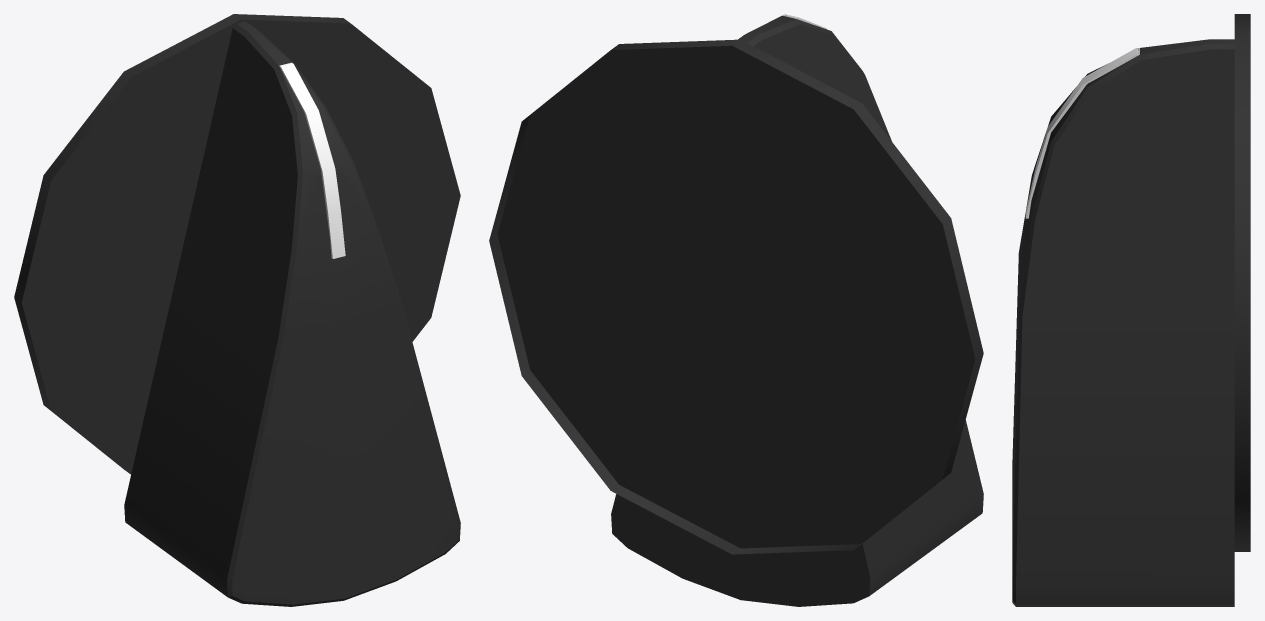
Rendered from LBS_STICK.fbx.
The picture shows the model from 3 angles, left to right: view 1: azimuth 30°, elevation 25°; view 2: azimuth 150°, elevation 25°; view 3: azimuth 270°, elevation 25°; orthographic projection. The views are drawn at different scales.
Visible parts, largest first — view 1: LPS_STICK2; view 2: LPS_STICK2; view 3: LPS_STICK2.
Part boxes in pixels (x1,y1,x2,y2): LPS_STICK2: (14,14,460,606); LPS_STICK2: (489,14,983,606); LPS_STICK2: (1012,14,1250,606).
Size of the model in its own units: 0.0604 by 0.0665 by 0.0267.
1 material, 1 textured.
